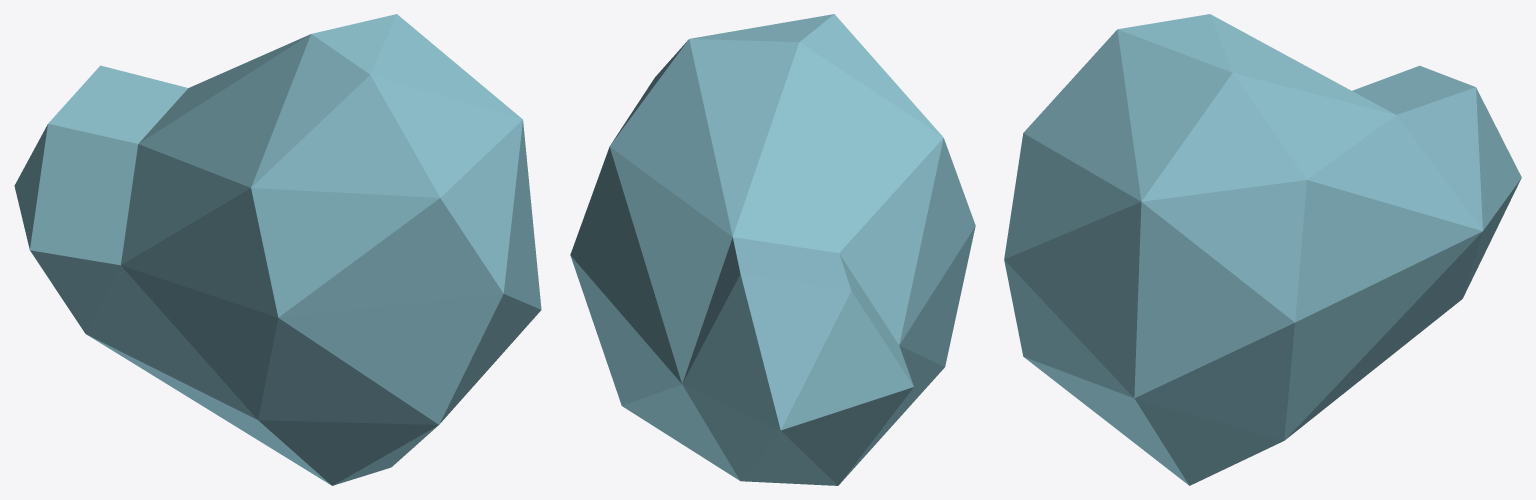
Rendered from 01_01Rock_Blue.fbx.
The picture shows the model from 3 angles, left to right: view 1: azimuth 30°, elevation 25°; view 2: azimuth 150°, elevation 25°; view 3: azimuth 270°, elevation 25°; orthographic projection. The views are drawn at different scales.
Parts seen in each view (by area): view 1: Icosphere.022; view 2: Icosphere.022; view 3: Icosphere.022.
Part boxes in pixels (x1=…): Icosphere.022: x1=14, y1=14, x2=541, y2=485; Icosphere.022: x1=570, y1=14, x2=975, y2=485; Icosphere.022: x1=1004, y1=14, x2=1521, y2=485.
Size of the model in its own units: 116 by 126 by 135.
